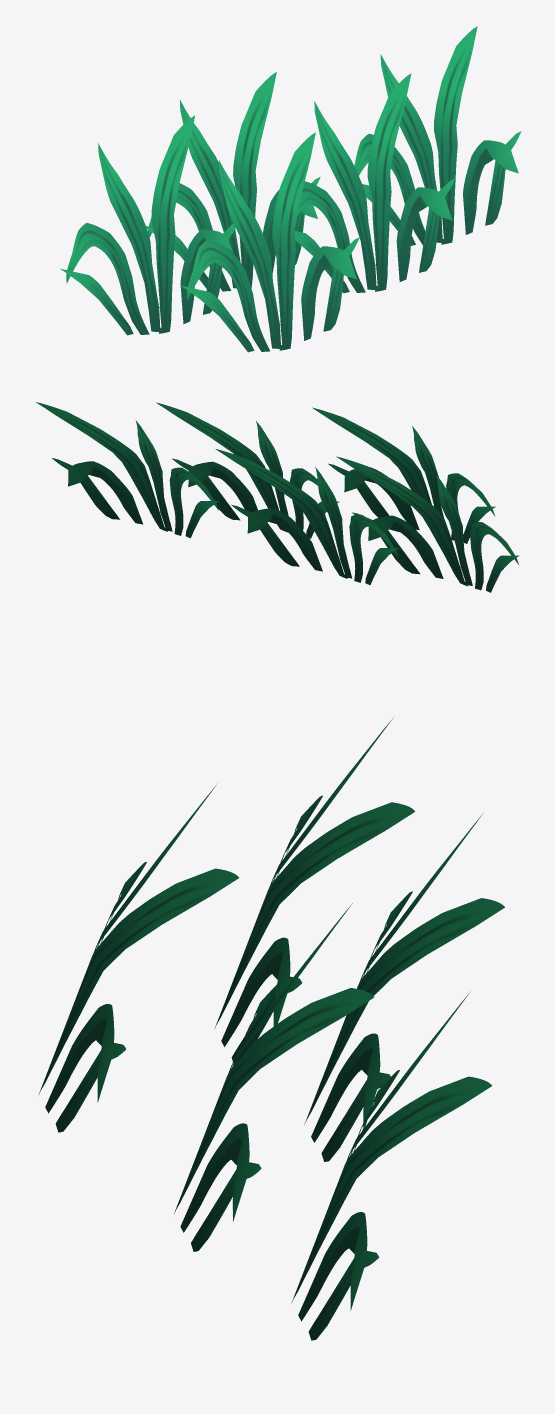
3 views of the same model, one above another, from view 1: azimuth 30°, elevation 25°; view 2: azimuth 150°, elevation 25°; view 3: azimuth 270°, elevation 25° (orthographic). The views are drawn at different scales.
Parts seen in each view (by area): view 1: Plane033, Plane034, Plane002, Plane003, Plane004; view 2: Plane003, Plane004, Plane034, Plane033, Plane002; view 3: Plane003, Plane033, Plane002, Plane004, Plane034.
Part boxes in pixels (left/top/right/bottom): Plane033: left=180, top=132, right=359, bottom=352; Plane034: left=60, top=115, right=235, bottom=335; Plane002: left=294, top=73, right=454, bottom=293; Plane003: left=354, top=26, right=521, bottom=245; Plane004: left=146, top=72, right=320, bottom=291; Plane003: left=36, top=402, right=219, bottom=538; Plane004: left=215, top=449, right=398, bottom=584; Plane034: left=336, top=456, right=519, bottom=592; Plane033: left=312, top=407, right=495, bottom=543; Plane002: left=156, top=402, right=339, bottom=538; Plane003: left=291, top=991, right=491, bottom=1340; Plane033: left=38, top=783, right=239, bottom=1132; Plane002: left=174, top=903, right=374, bottom=1251; Plane004: left=304, top=814, right=504, bottom=1161; Plane034: left=214, top=718, right=414, bottom=1064.
Bounding box in the file's own units: 136 × 42.75 × 61.56.
